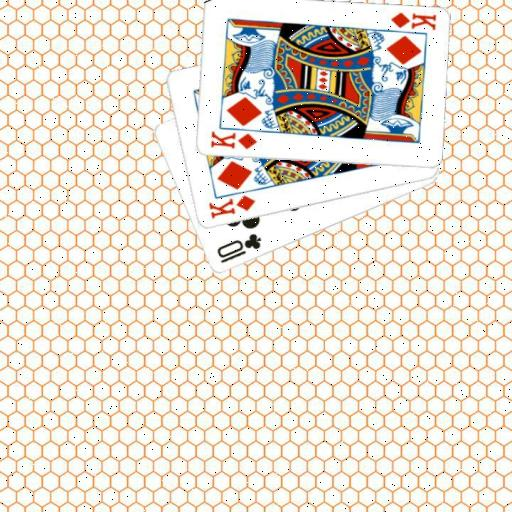10C: (213, 231, 263, 266)
KD: (205, 192, 257, 220), (207, 128, 258, 151), (388, 9, 438, 32)
